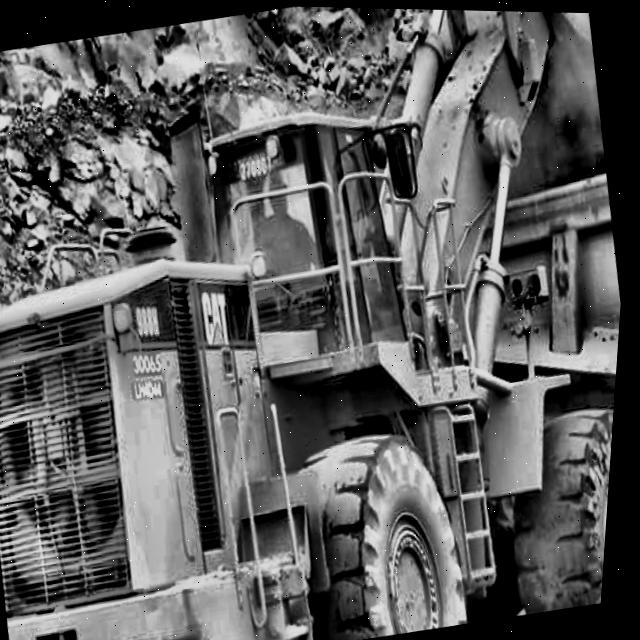buldozerpayloadergrader: (0, 0, 640, 640)
dump_truck: (430, 42, 638, 614)
